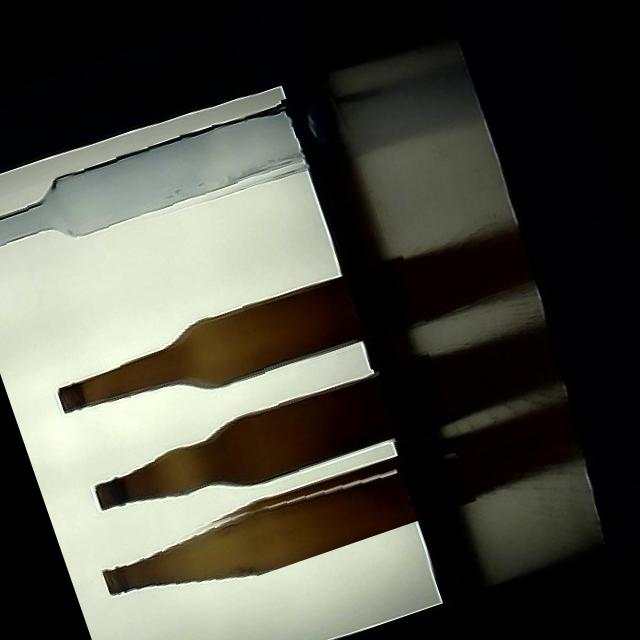Glass: (0, 81, 358, 290), (49, 248, 426, 444), (96, 430, 478, 622), (83, 349, 452, 539)
